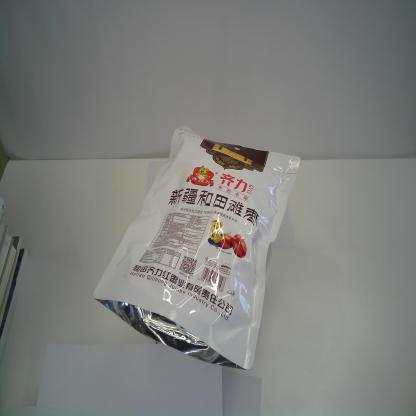Dried Food: (92, 123, 302, 372)
